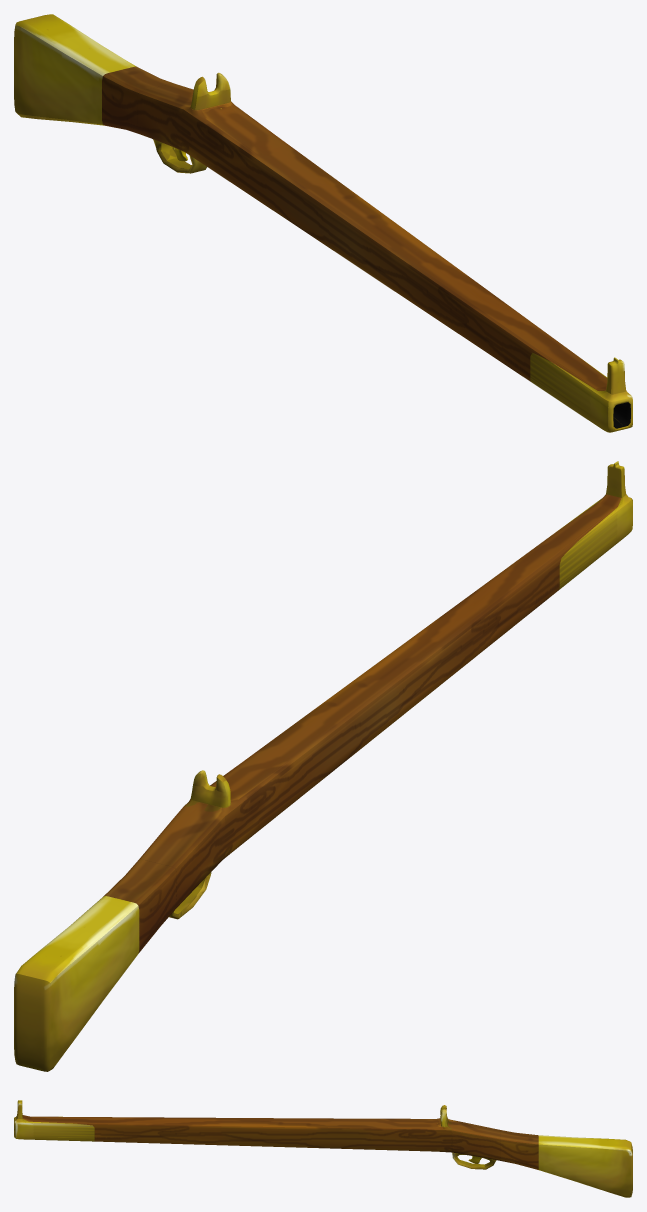
File: Arma.fbx
3 views of the same model, one above another, from view 1: azimuth 30°, elevation 25°; view 2: azimuth 150°, elevation 25°; view 3: azimuth 270°, elevation 25° (orthographic). The views are drawn at different scales.
Parts seen in each view (by area): view 1: Weapon; view 2: Weapon; view 3: Weapon.
Boxes of the visible parts, box(x1,y1,x2,y2) form: Weapon: box(14, 14, 632, 432); Weapon: box(14, 461, 632, 1071); Weapon: box(14, 1100, 632, 1197).
Size of the model in its own units: 6.24 by 24.48 by 147.
1 material, 1 textured.
